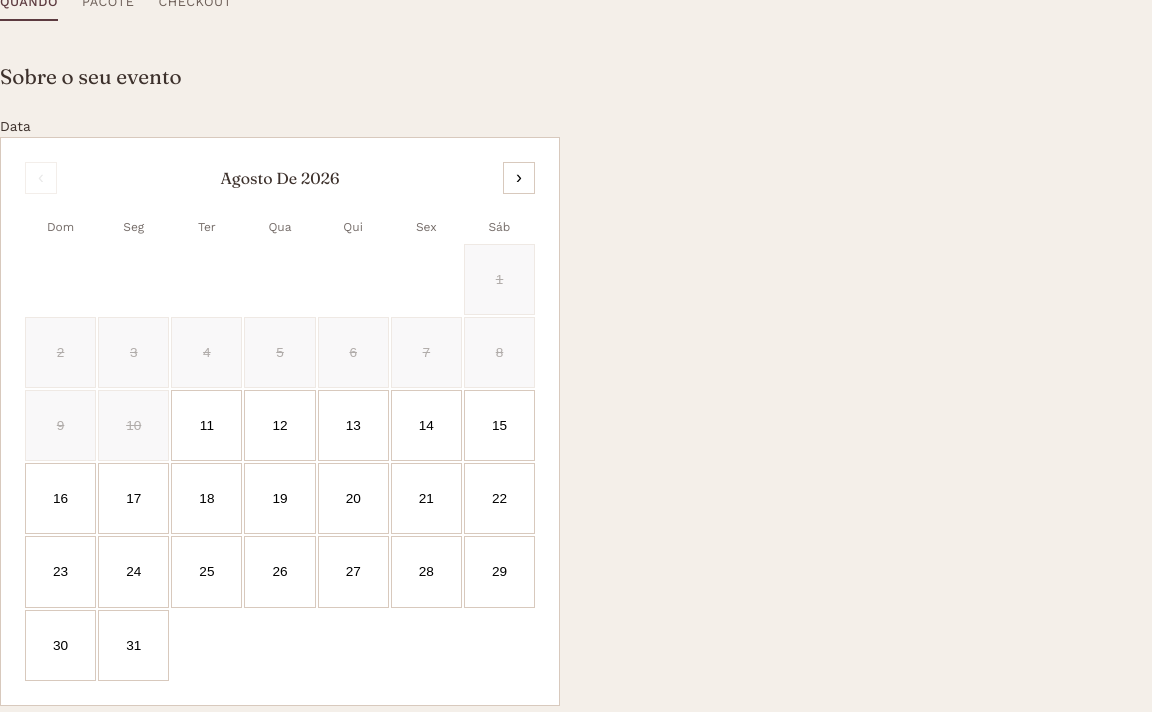
Test: ReservaEventoWizard › desabilita o add-on de Telão para o pacote Cardápio Aberto e mostra o total correto no modal para um pacote com preço
Click the button "21" at (426, 499), box [391,463,462,534]
(page scrolled)
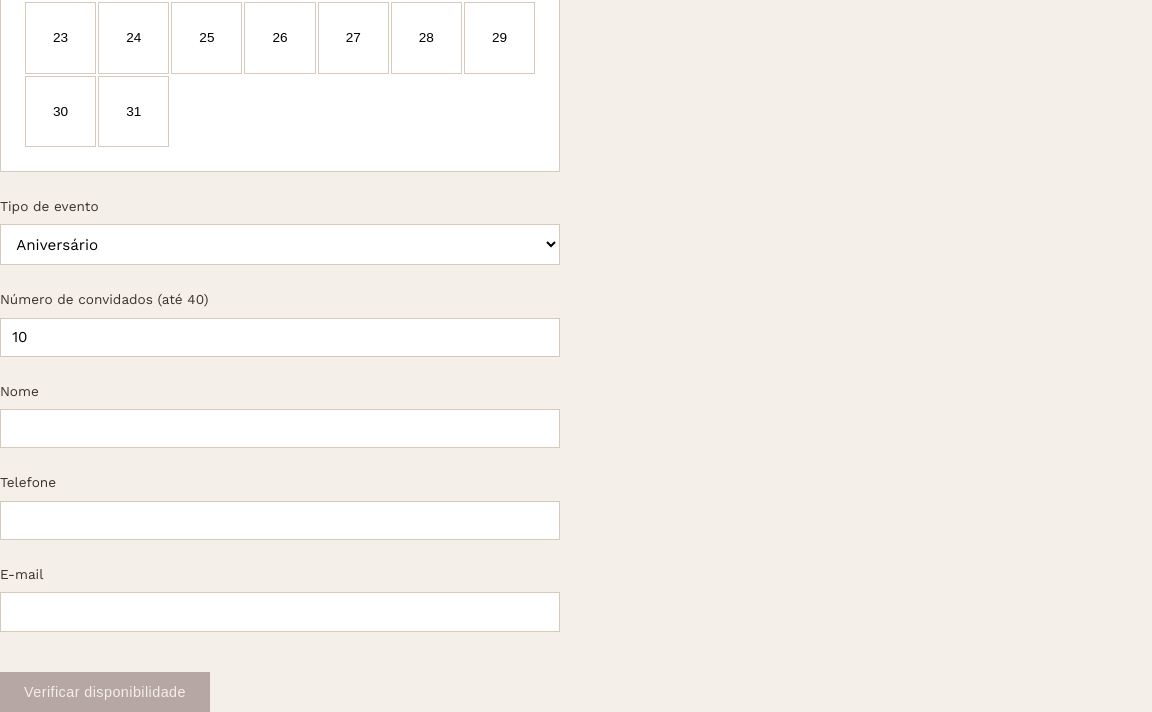
Type "Cliente Teste" into the field labelled "Nome" at (280, 429), box [0,409,560,448]
Type "+5541999999999" into the field labelled "Telefone" at (280, 520), box [0,501,560,540]
Type "teste@exemplo.com" into the field labelled "E-mail" at (280, 612), box [0,592,560,632]
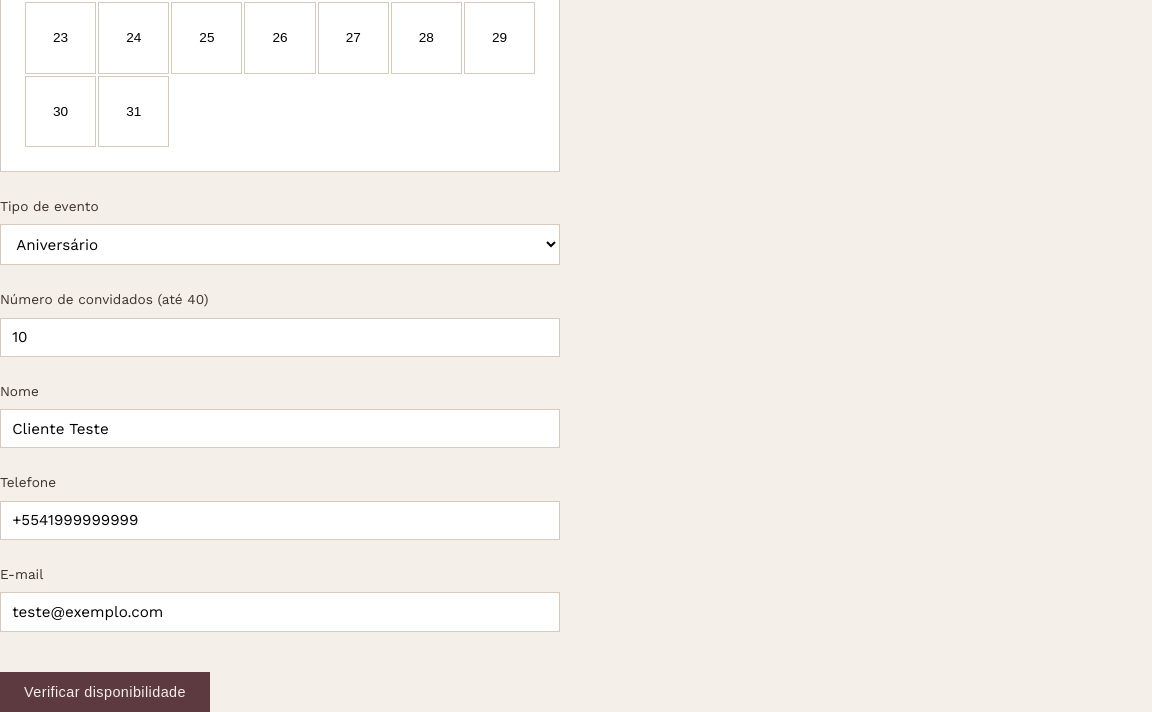
Click the button "Verificar disponibilidade" at (105, 692), box [0,672,210,711]
(page scrolled)
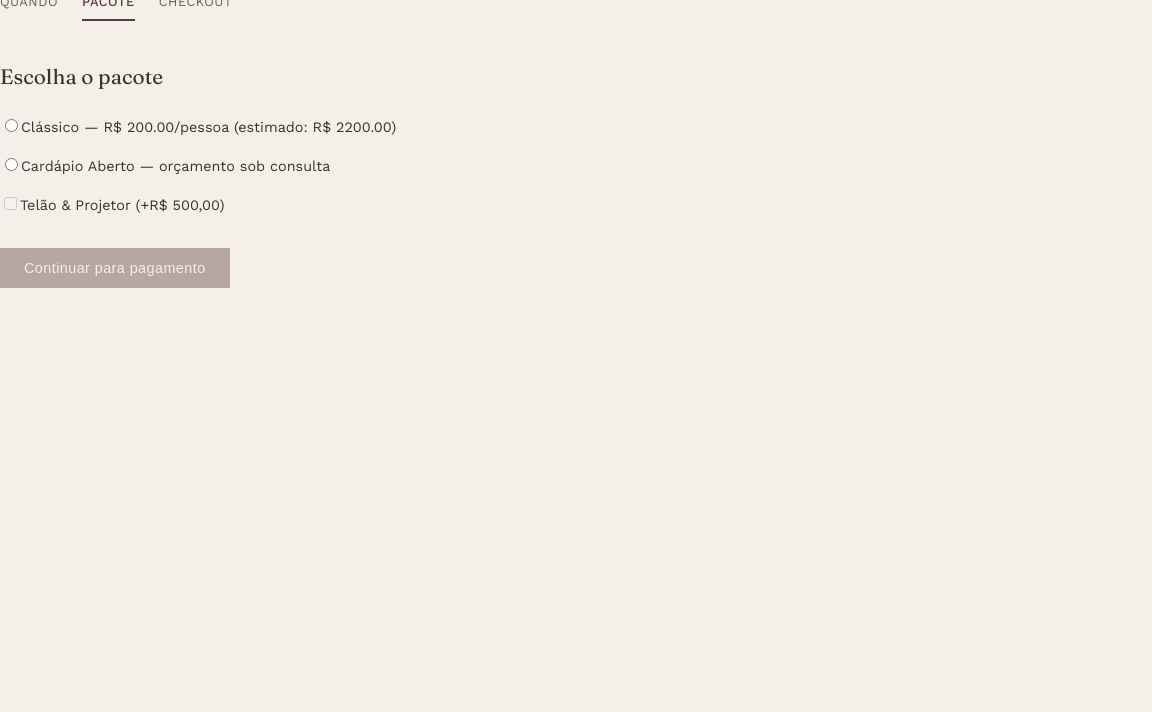
Check: the text "Escolha o pacote" is shown, box [0,61,163,92]
Check: the checkbox labelled "Telão & Projetor (+R$ 500,00)" is disabled, box [4,197,17,210]
Click the radio button labelled "Cardápio Aberto — orçamento sob consulta" at (12, 164), box [5,158,18,171]
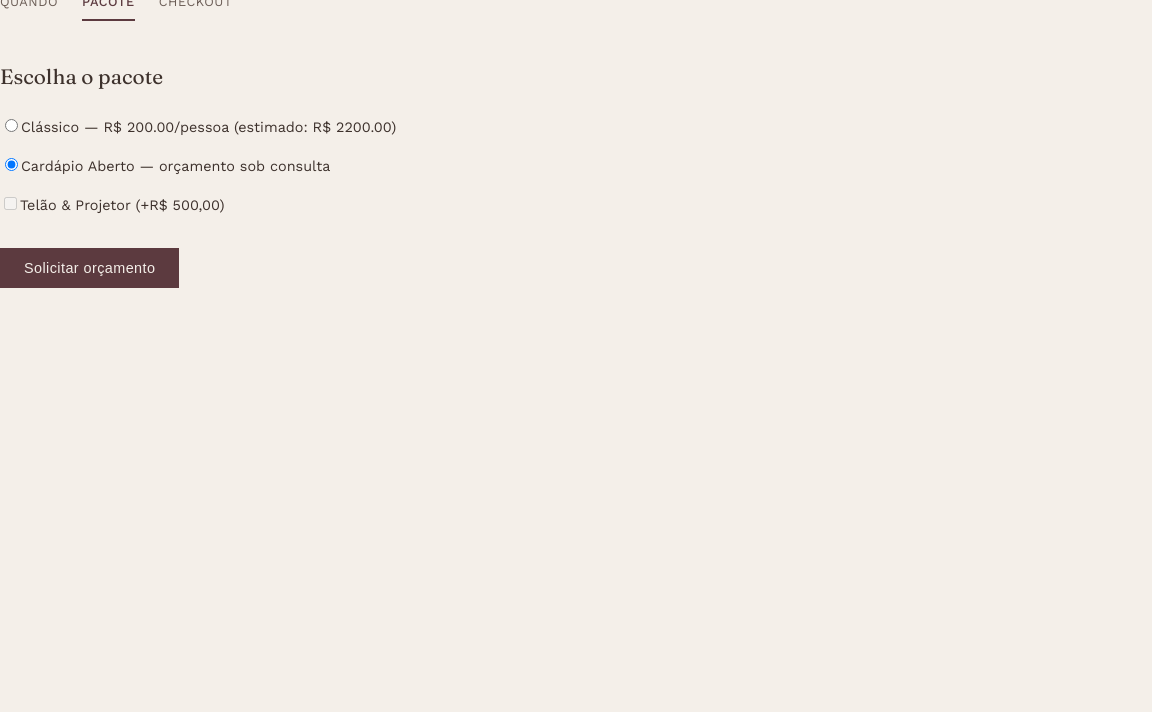
Check: the checkbox labelled "Telão & Projetor (+R$ 500,00)" is disabled, box [4,197,17,210]
Click the radio button labelled "Clássico — R$ 200.00/pessoa (estimado: R$ 2200.00)" at (12, 126), box [5,119,18,132]
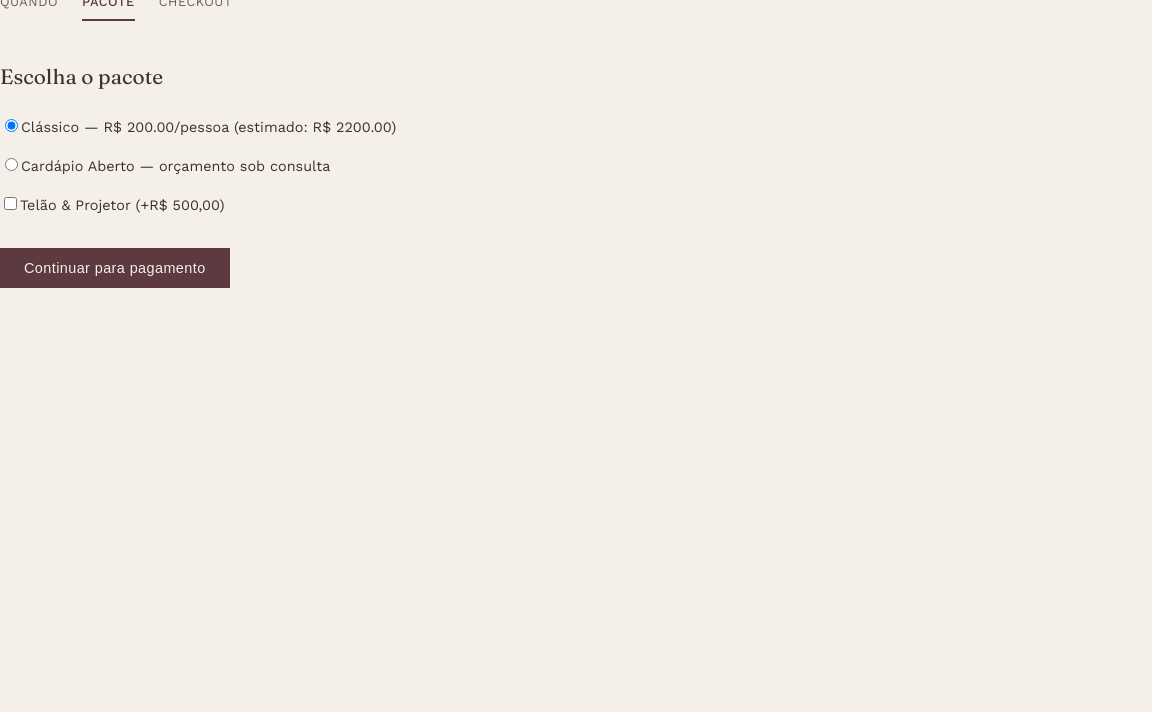
Check: the checkbox labelled "Telão & Projetor (+R$ 500,00)" is enabled
Click the checkbox labelled "Telão & Projetor (+R$ 500,00)" at (10, 203), box [4,197,17,210]
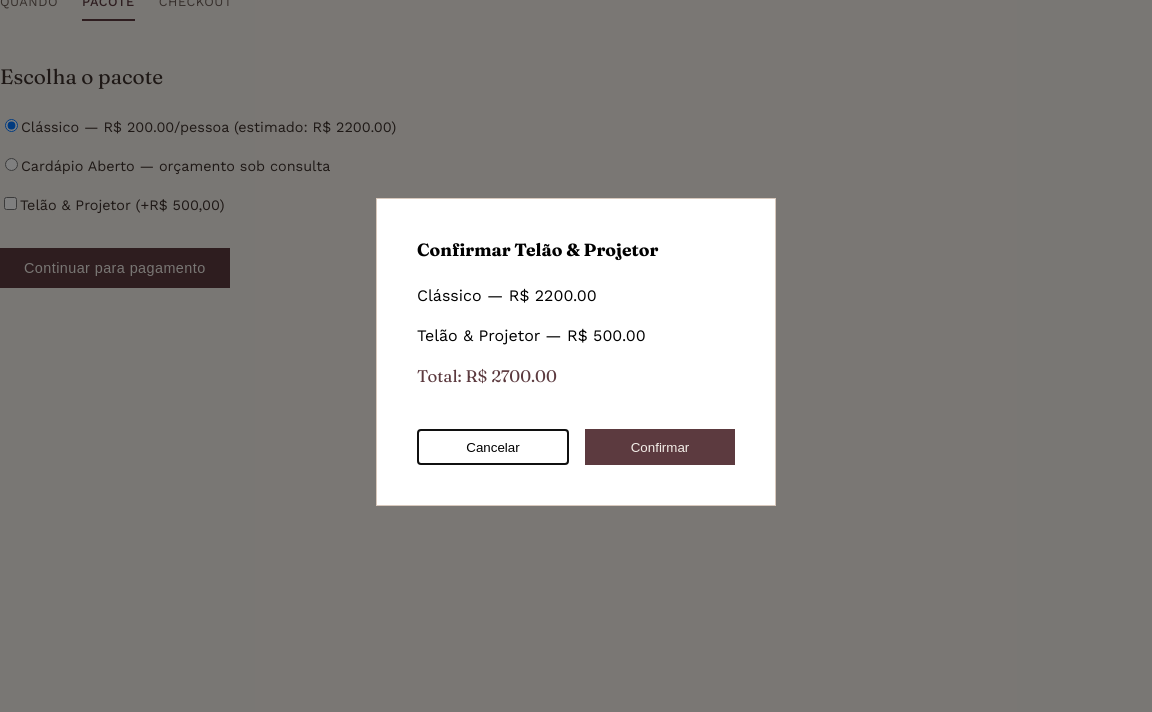
Check: the dialog is shown, box [376,198,776,506]
Check: the text "Clássico — R$ 2200.00" is shown, box [417,286,597,305]
Check: the text "Total: R$ 2700.00" is shown, box [417,366,557,386]
